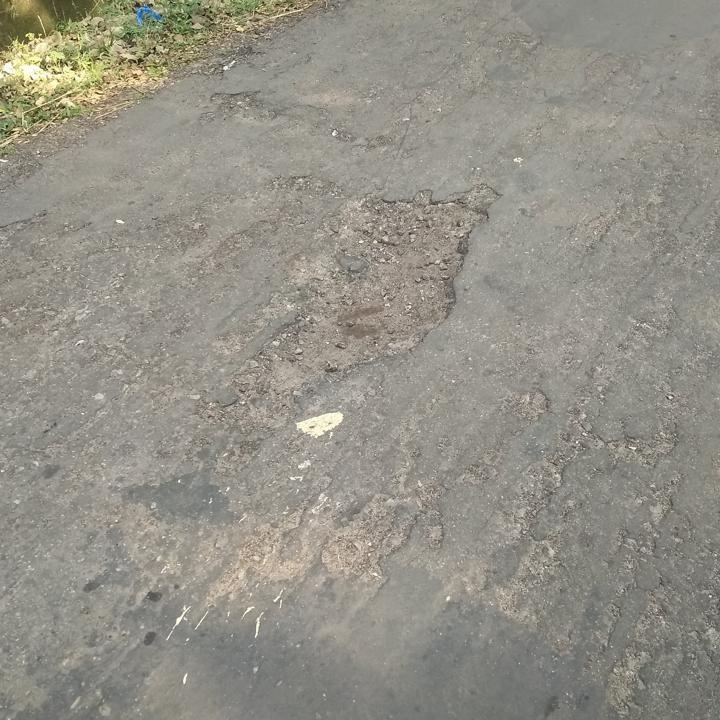pothole: (250, 181, 500, 395), (207, 83, 269, 120)
